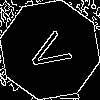V: (25, 25, 81, 77)
